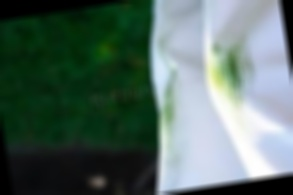earth: (206, 47, 251, 104), (155, 85, 180, 131)
